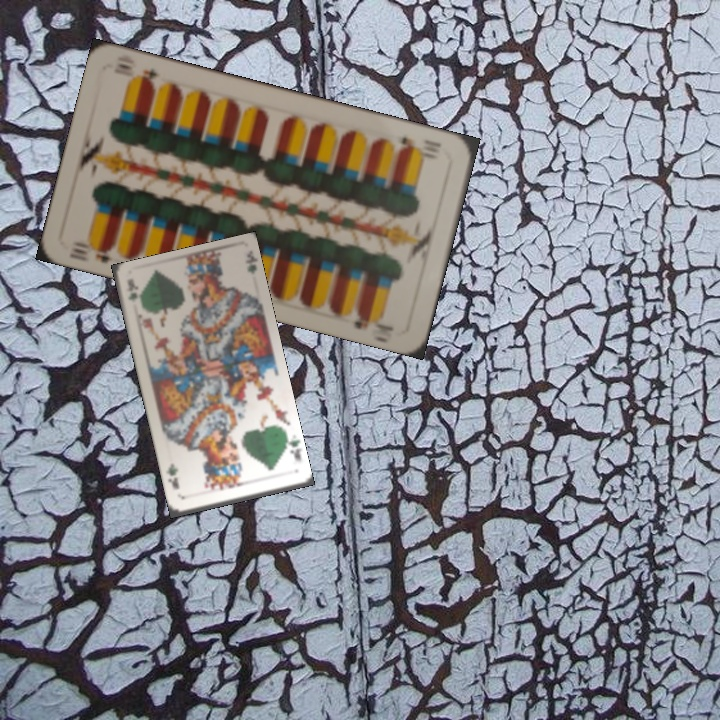E10: (67, 239, 121, 266), (395, 133, 444, 156)
GK: (281, 432, 304, 464), (124, 282, 140, 305)
